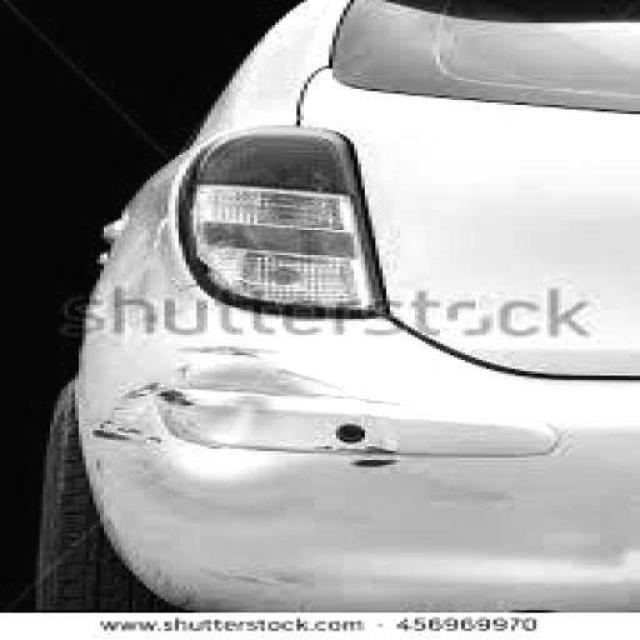car damage: (99, 344, 434, 497)
